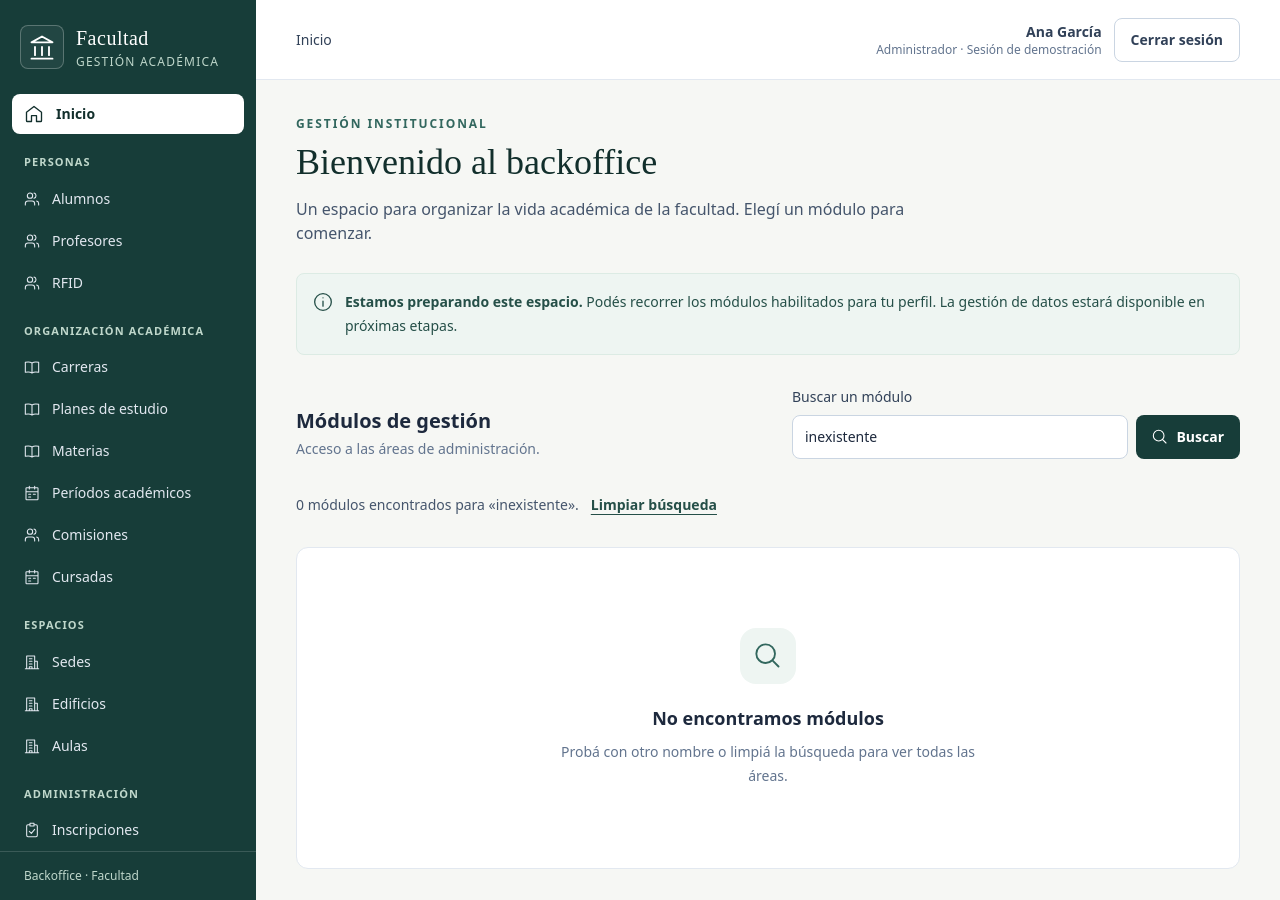
Scenario: Búsqueda de módulos › restaura una búsqueda desde la URL y permite limpiar un resultado vacío
Expected: the search field holds "inexistente", top-left (792, 415), bottom-right (1128, 459)
Expected: the heading "No encontramos módulos" is shown, top-left (652, 706), bottom-right (884, 730)
What coordinates should you click on to do the following:
click the button "Limpiar búsqueda"
I would click on:
 (654, 505)
Its box is top-left (591, 483), bottom-right (717, 527).
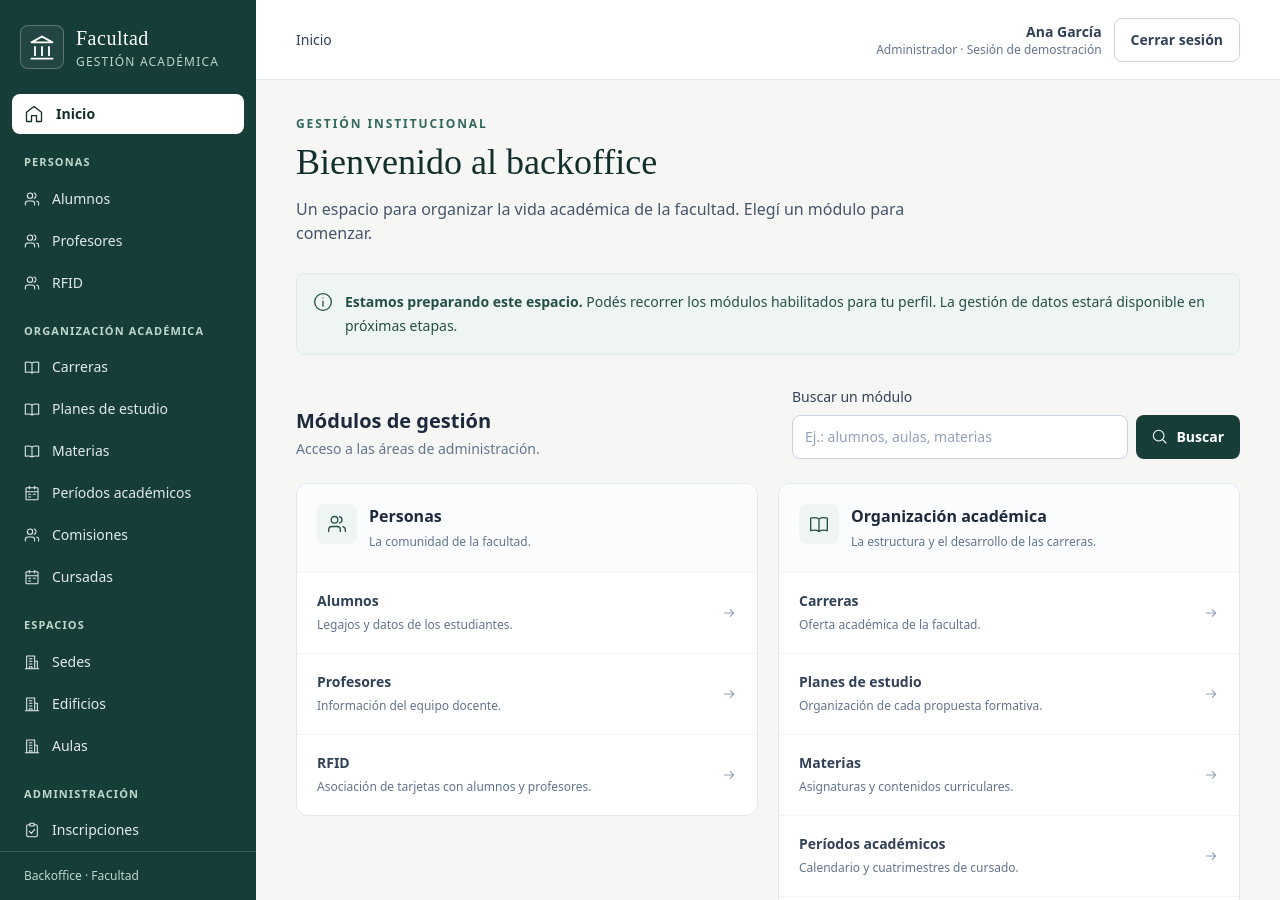
Now the search field is empty, box top-left (792, 415), bottom-right (1128, 459)
Now the link "Alumnos Legajos y datos de los estudiantes." is shown, box top-left (317, 591), bottom-right (737, 633)
